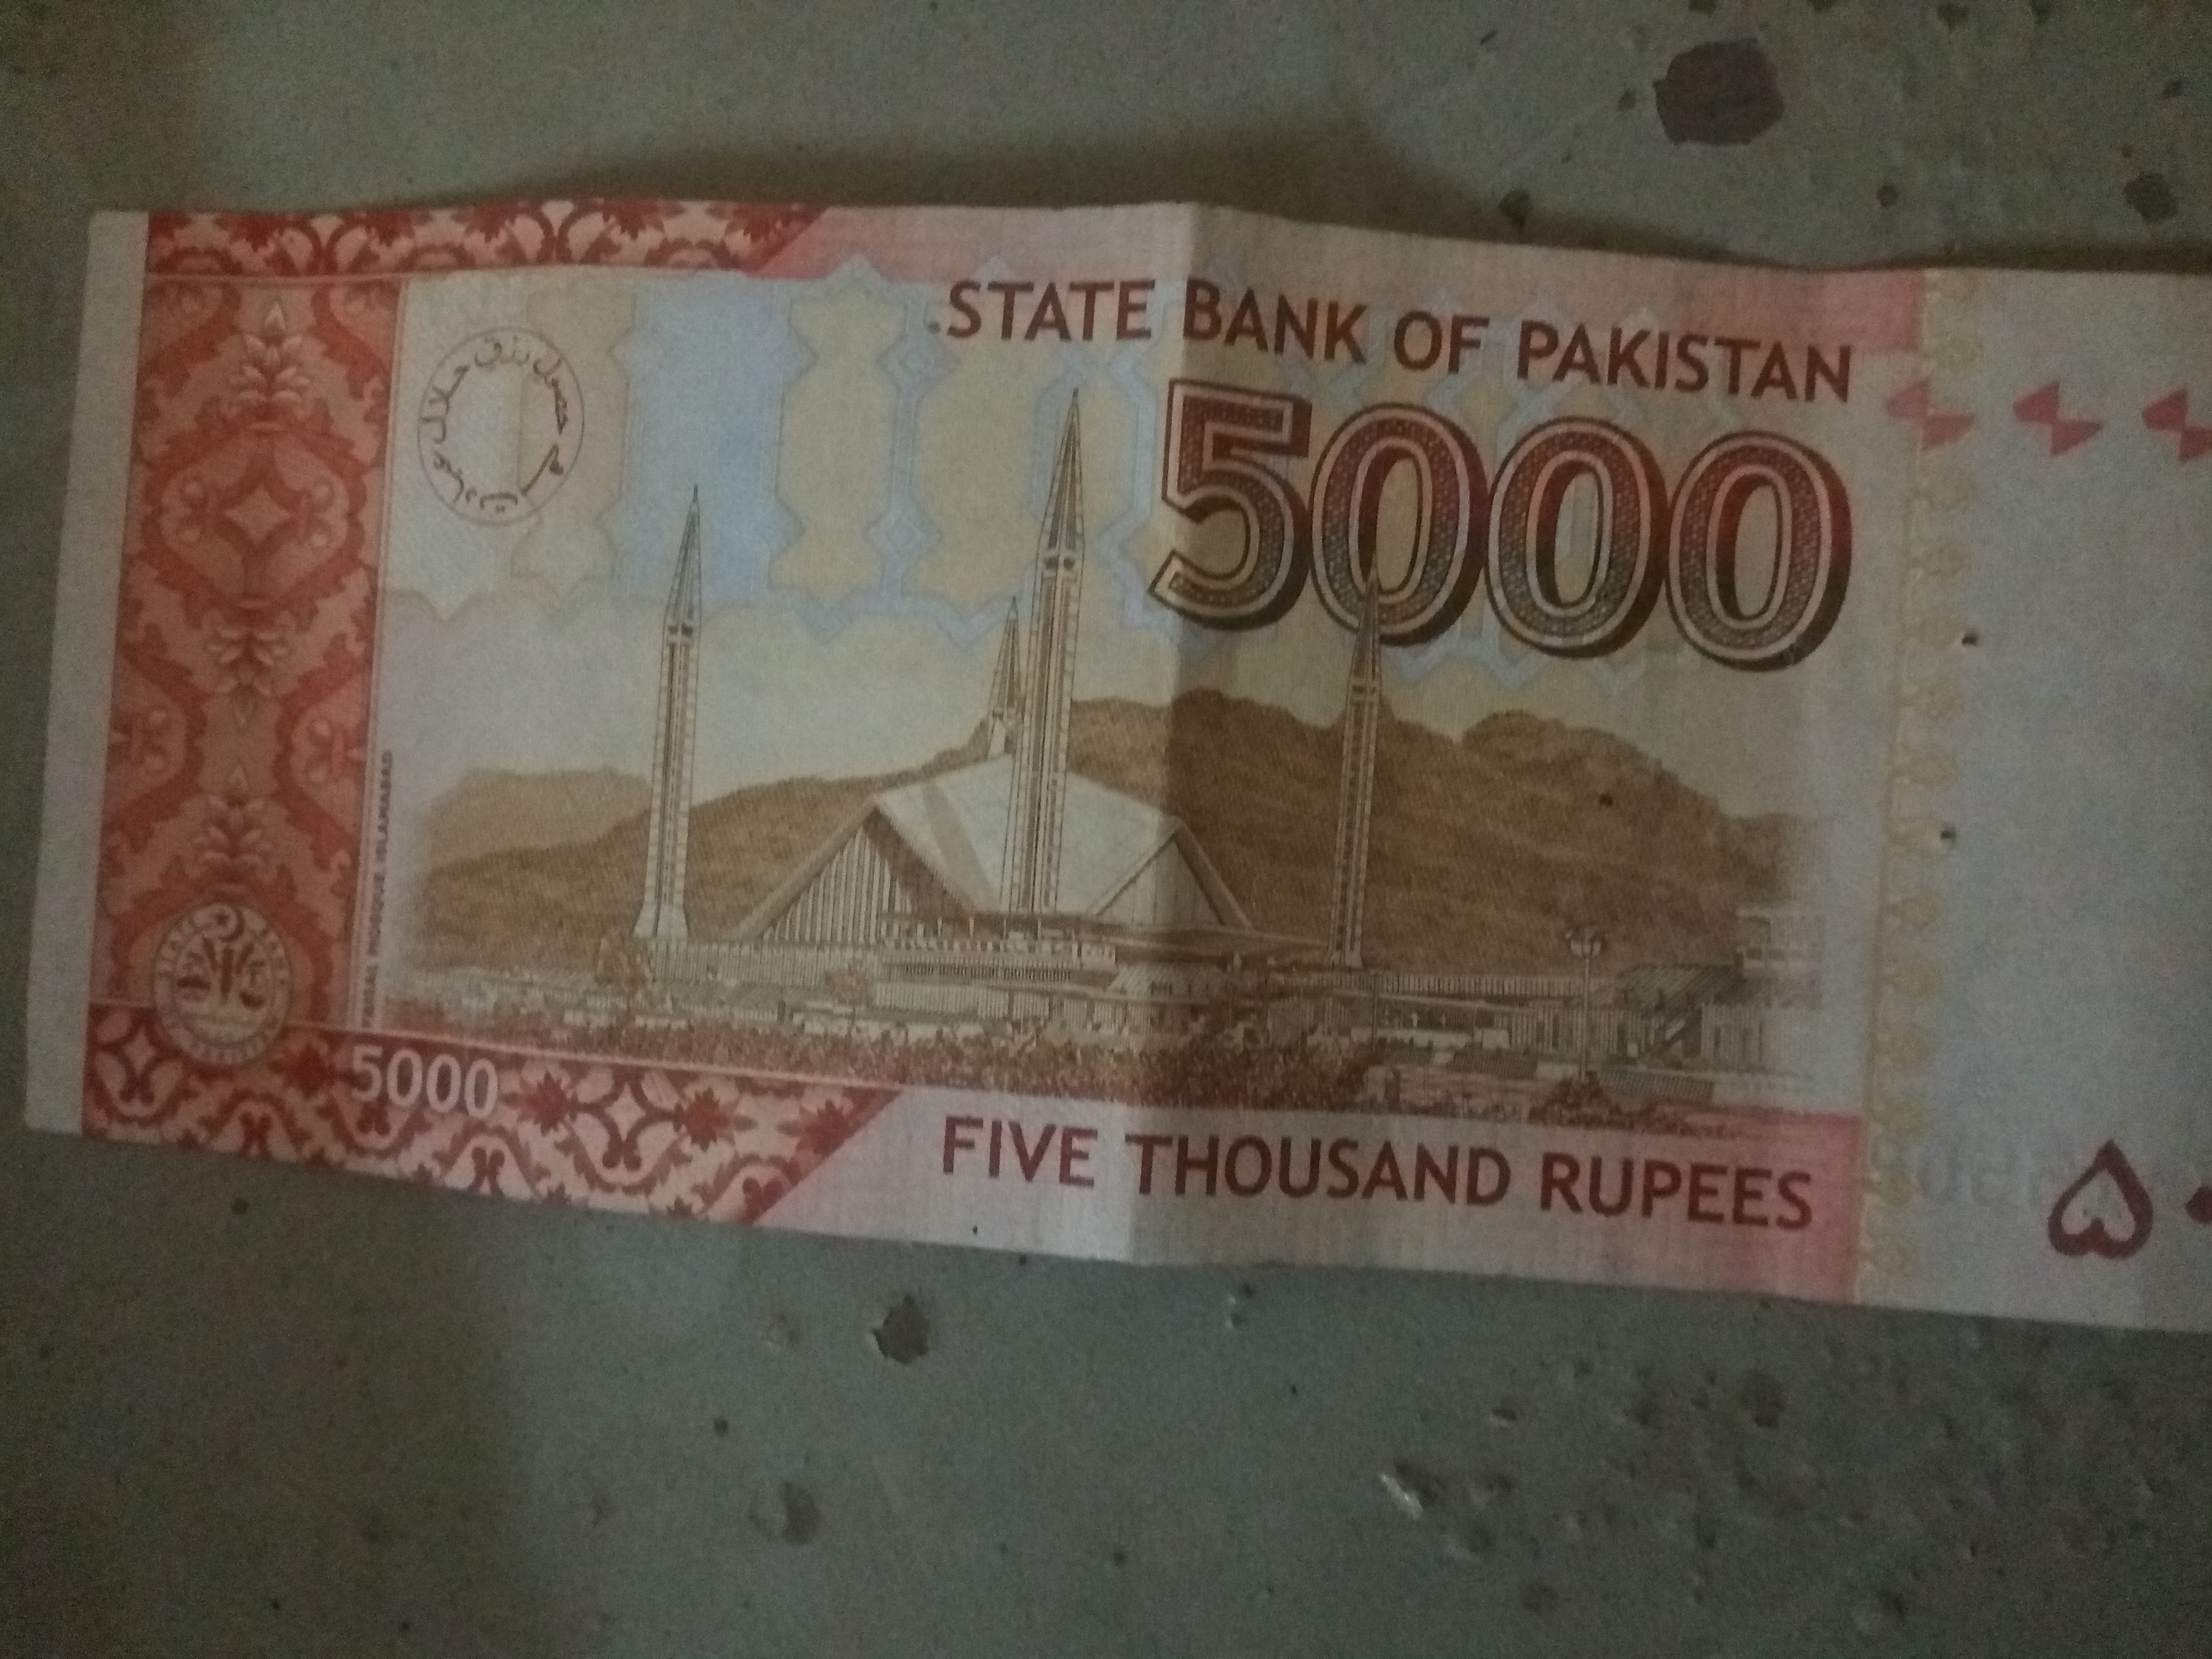5000 rupee: (33, 134, 2193, 1436)
